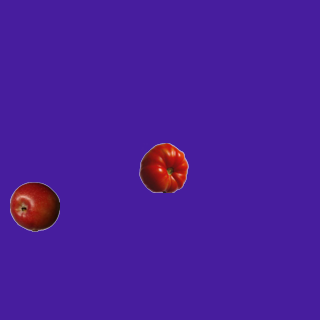Apple Braeburn: (9, 181, 59, 231)
Tomato 3: (138, 142, 188, 192)
